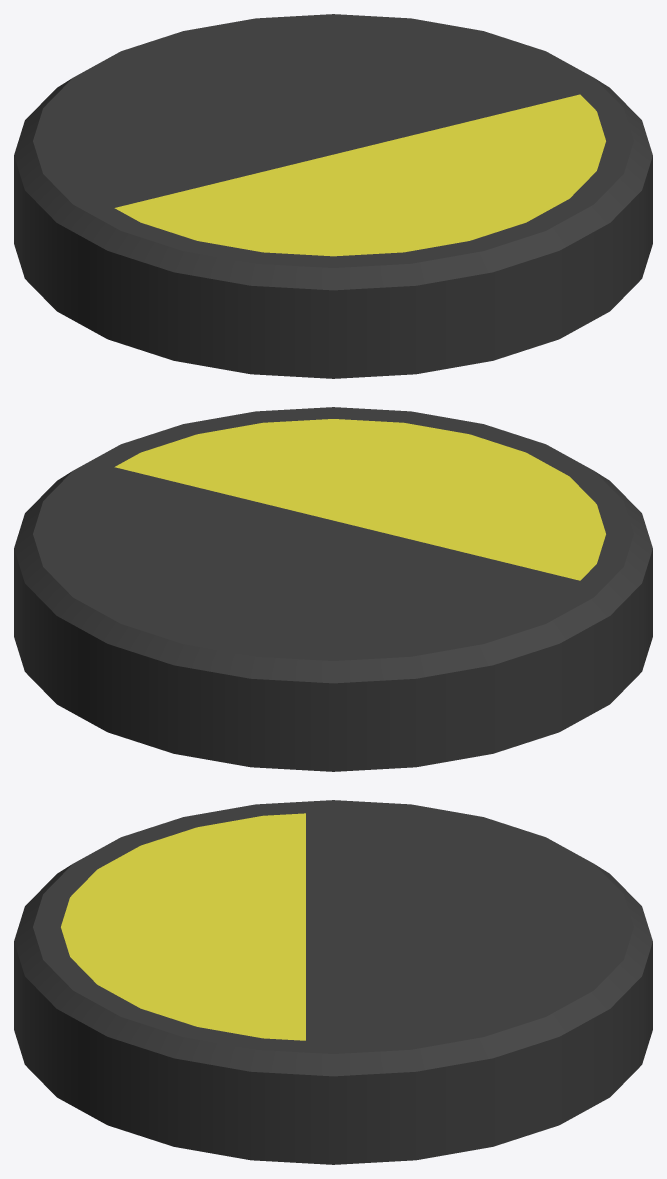
Rendered from roomba.fbx.
The picture shows the model from 3 angles, top to bottom: view 1: azimuth 30°, elevation 25°; view 2: azimuth 150°, elevation 25°; view 3: azimuth 270°, elevation 25°; orthographic projection.
Visible parts, largest first — view 1: Roomba; view 2: Roomba; view 3: Roomba.
Boxes of the visible parts, x1,y1,x2,y2 form: Roomba: (14, 14, 652, 378); Roomba: (14, 407, 652, 771); Roomba: (14, 800, 652, 1164).
Size of the model in its own units: 36.61 by 36.61 by 7.46.
